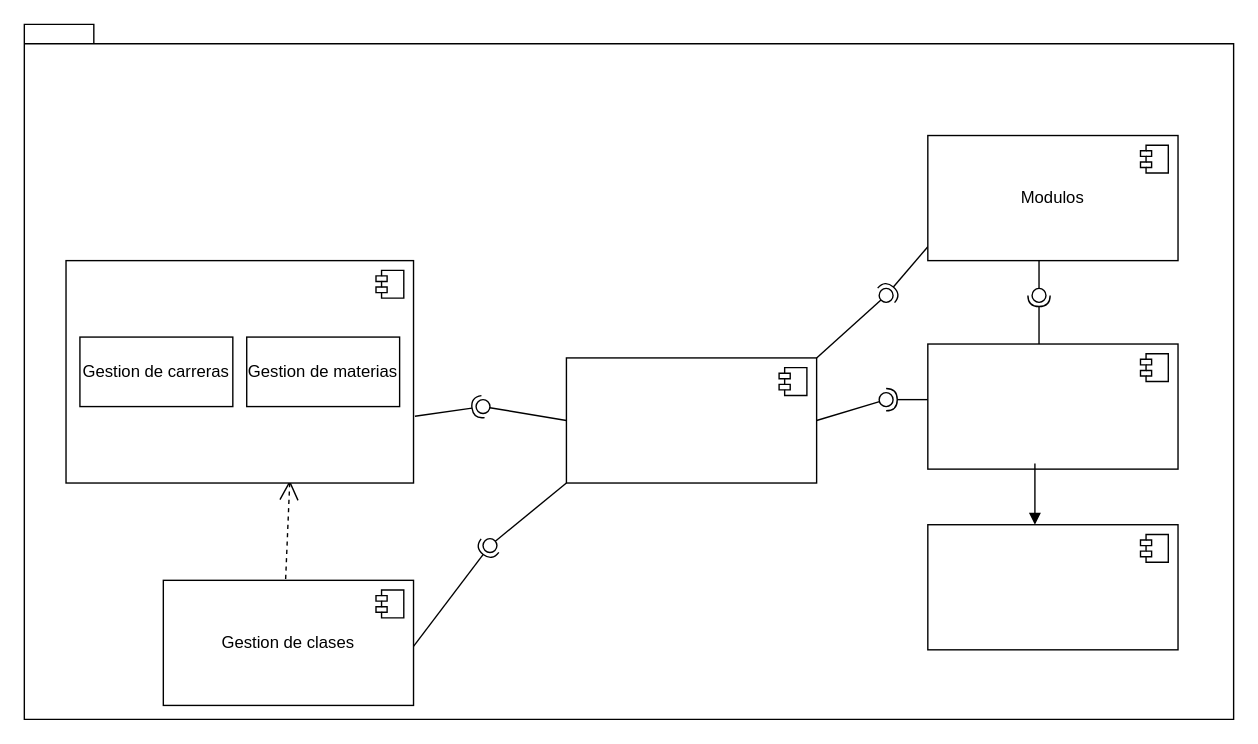
This 1258x744 diagram has some shape labels left out. The centre of each missing label's shape, as x and y in pixels:
"Base de datos" belongs at [691,420].
"Gestion de personas" belongs at [1052,586].
"Gestion de usuarios y roles" belongs at [1052,406].
